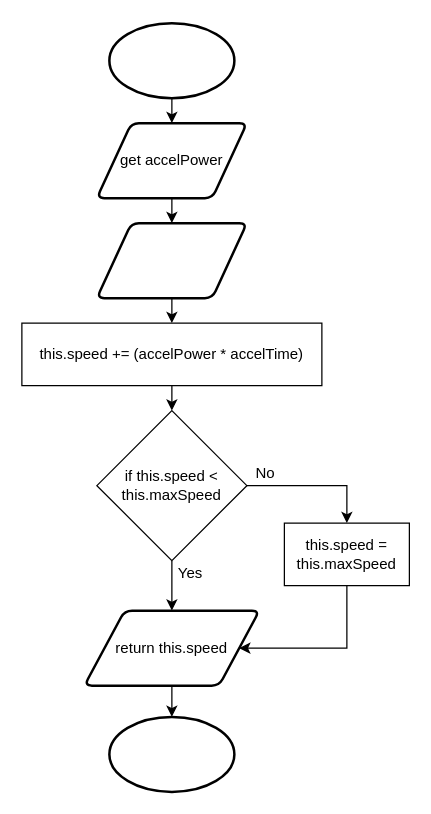
The diagram is 431 pixels wide and 814 high, and some of its shapes have lost their labels. The centre of each missing label's shape, as x and y in pixels:
"get accelTime" belongs at [171,260].
"Start" belongs at [171,60].
"Stop" belongs at [171,753].
